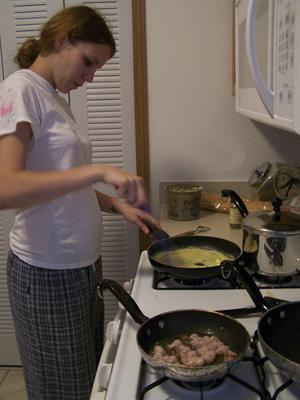person: (1, 6, 163, 400)
